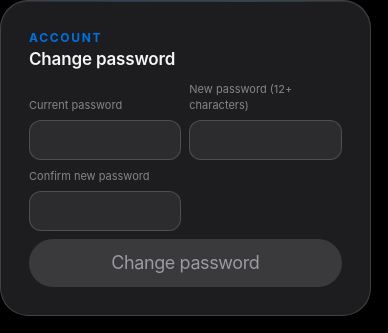
Test: ChangePassword › changes the password, then signs out because every old token is revoked
Type "old-password-12" into the password field labelled "Current password" at {"x": 105, "y": 140}, box [29, 120, 181, 160]
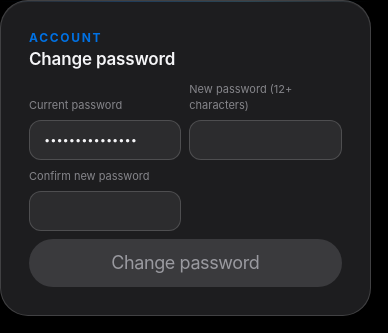
Type "new-password-12" into the password field labelled "New password (12+ characters)" at {"x": 265, "y": 140}, box [189, 120, 342, 160]
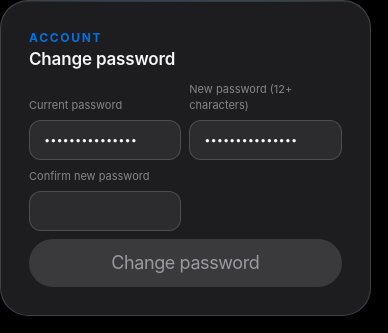
Type "new-password-12" into the password field labelled "Confirm new password" at {"x": 105, "y": 211}, box [29, 190, 181, 231]
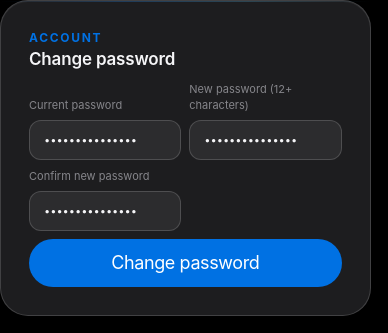
Click the button "Change password" at {"x": 185, "y": 263}, box [29, 239, 342, 287]
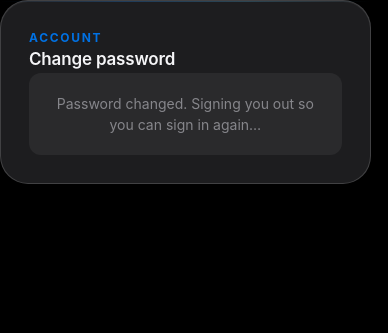
Expected: the text "Password changed. Signing you out so you can sign in again…" is shown, [29, 72, 342, 154]
